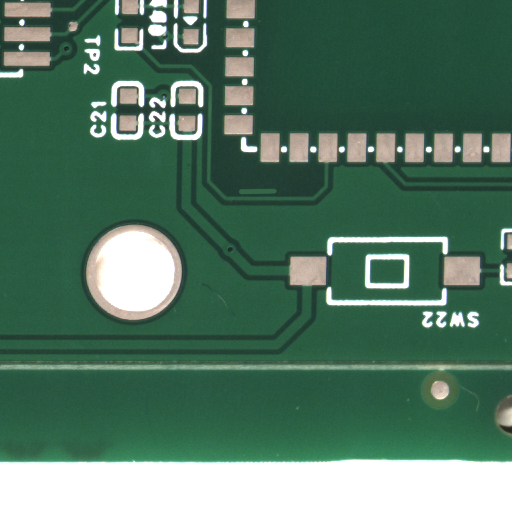Spurious_copper: (258, 190, 298, 199)
